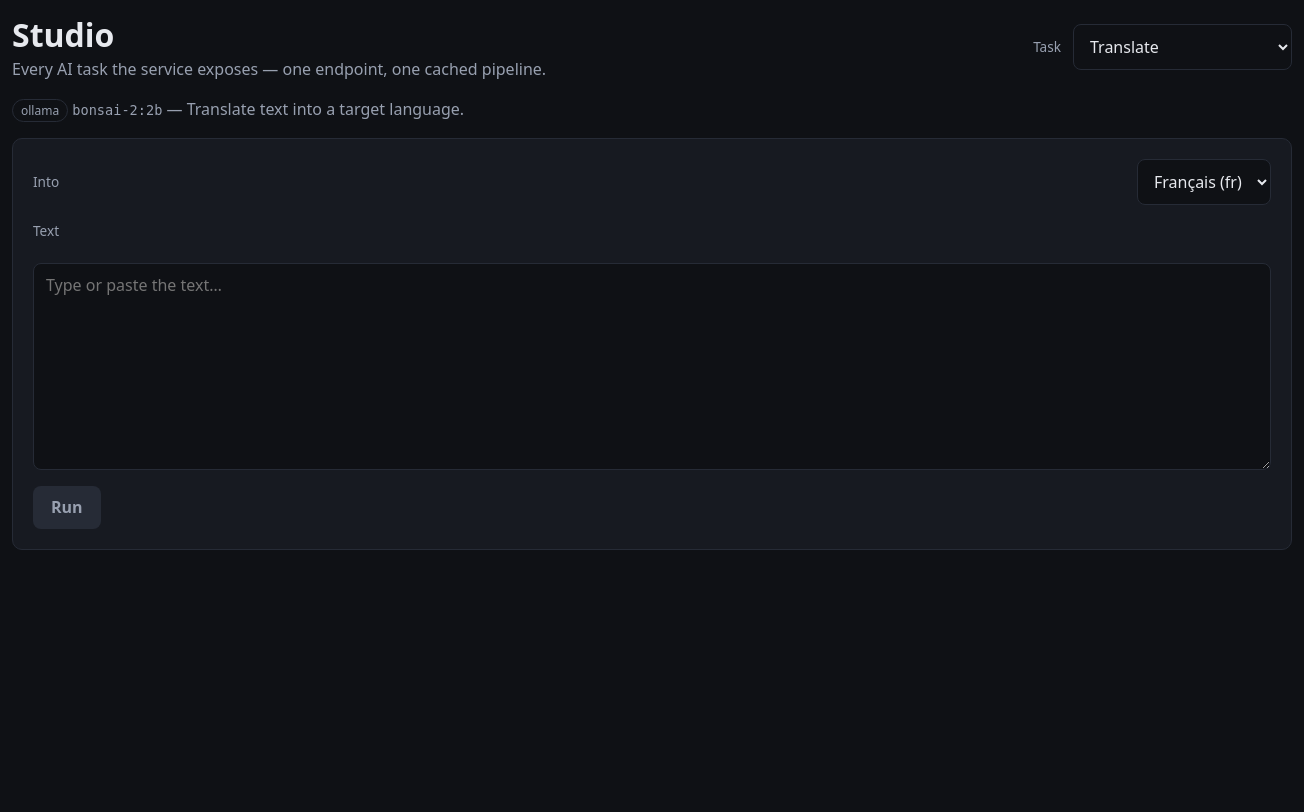
it: Studio › falls back to the ApiError message when no API message is present
The image size is (1304, 812).
Type "Hello" into the text box labelled "Text" at (652, 366), box [33,263,1271,470]
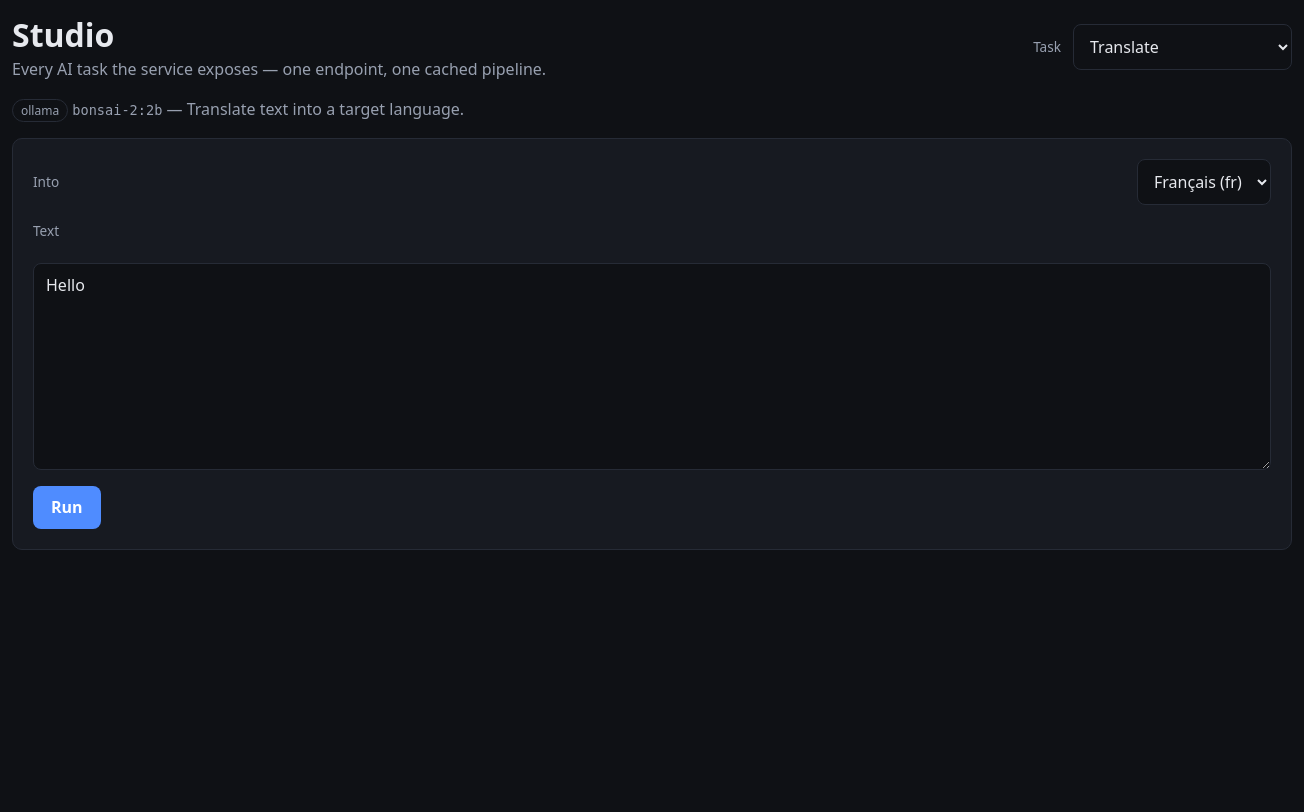
Click the button "Run" at (67, 508), box [33,486,101,529]
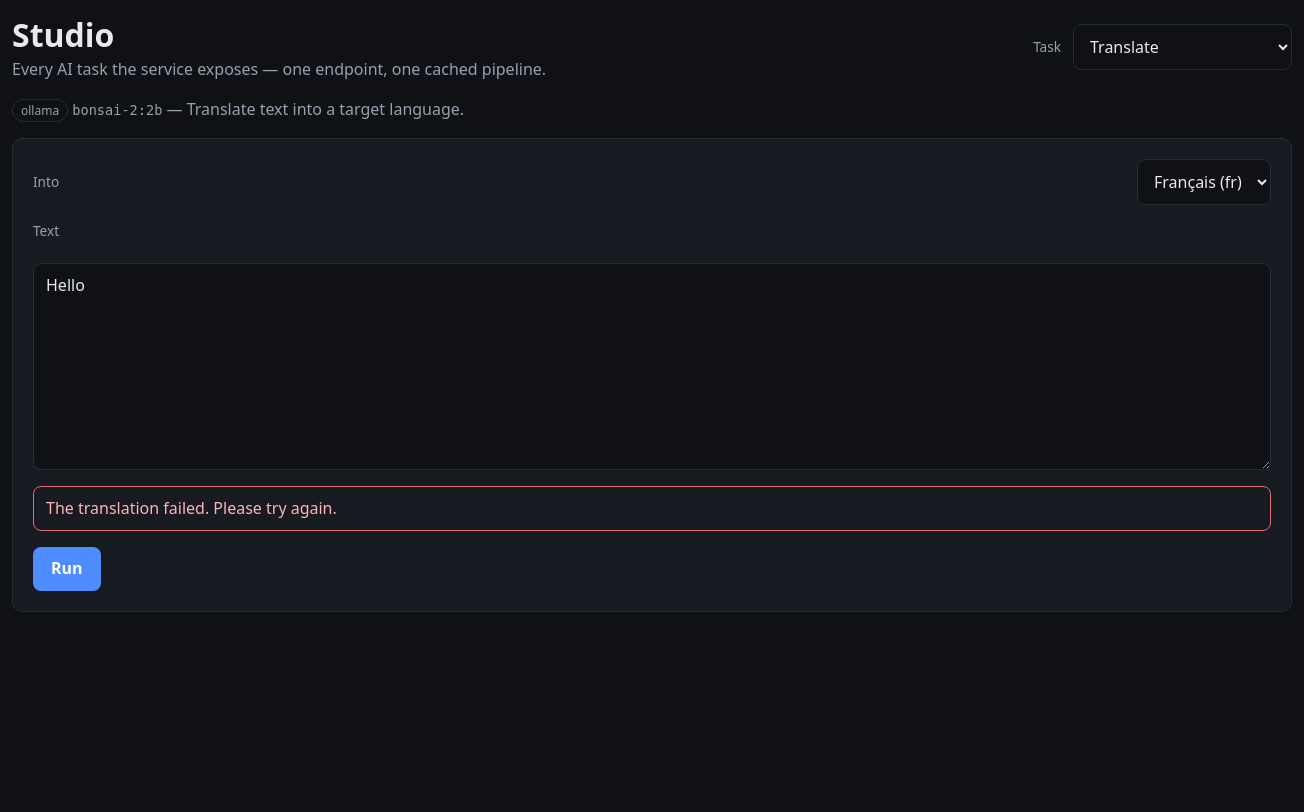
Expected: the message reads "The translation failed. Please try again.", [46,497,337,519]
